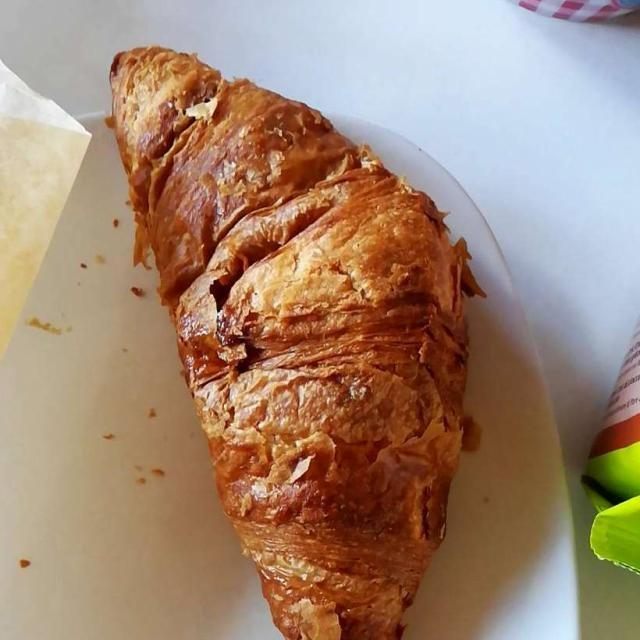croissant: (113, 46, 473, 618)
